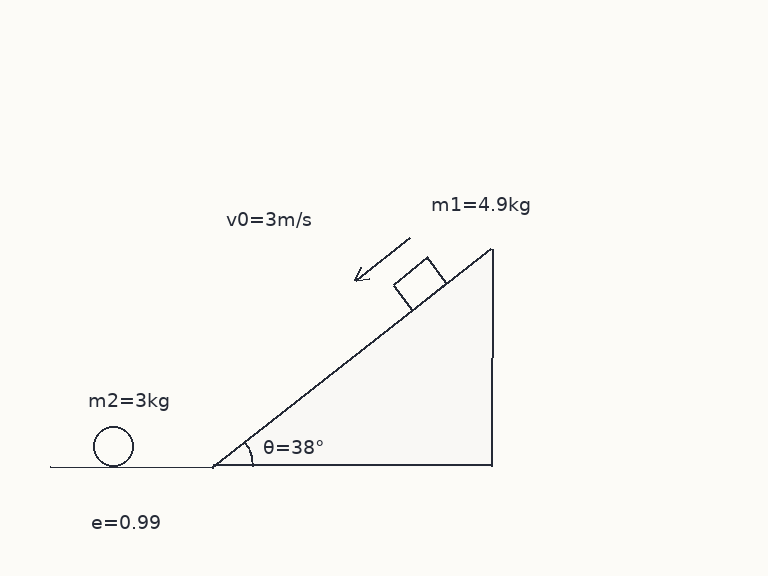ball: (91, 424, 135, 468)
block: (390, 256, 449, 312)
ramp: (211, 247, 493, 468)
